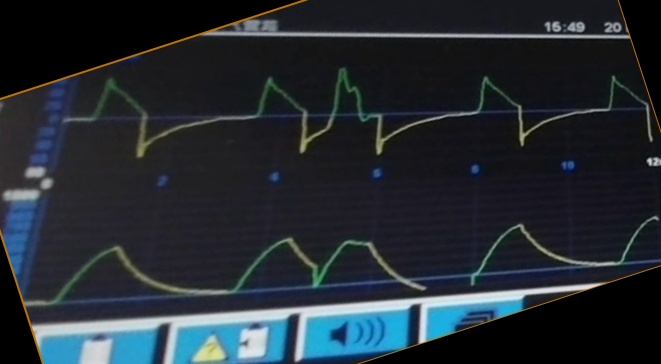Double_Triggering Flow: (97, 69, 641, 162)
Double_Triggering Volume: (67, 219, 654, 295)
